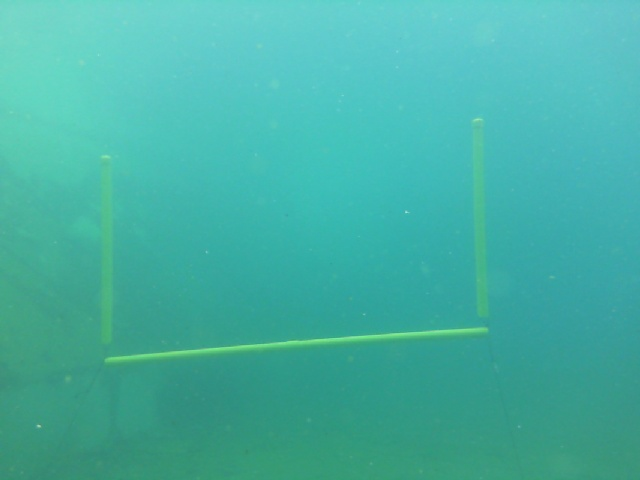channel: (95, 115, 491, 370)
